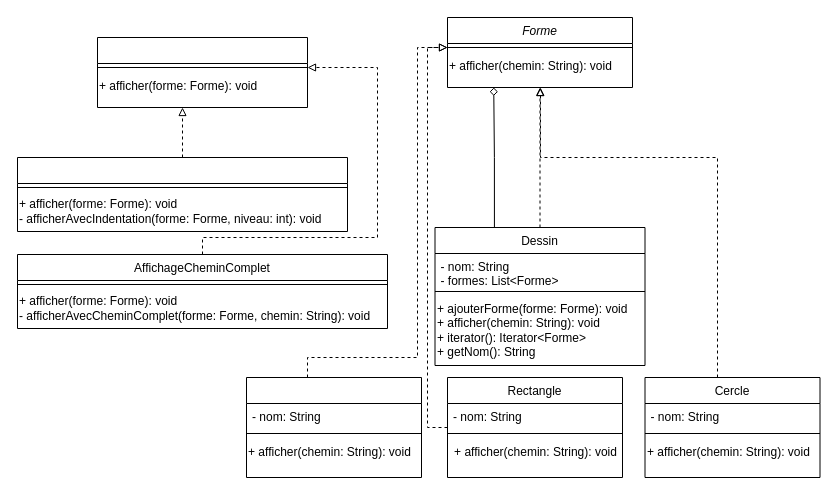
Image size: 838x495. Some labels were removed from this diagram. The shapes that lost their labels are listed below. From the top down, each one's box as (x1, y1, x2, y2) in pixels, then its label:
(96, 36, 308, 108): AffichageStrategie
(16, 156, 348, 232): AffichageIndentation
(246, 376, 422, 478): Triangle
